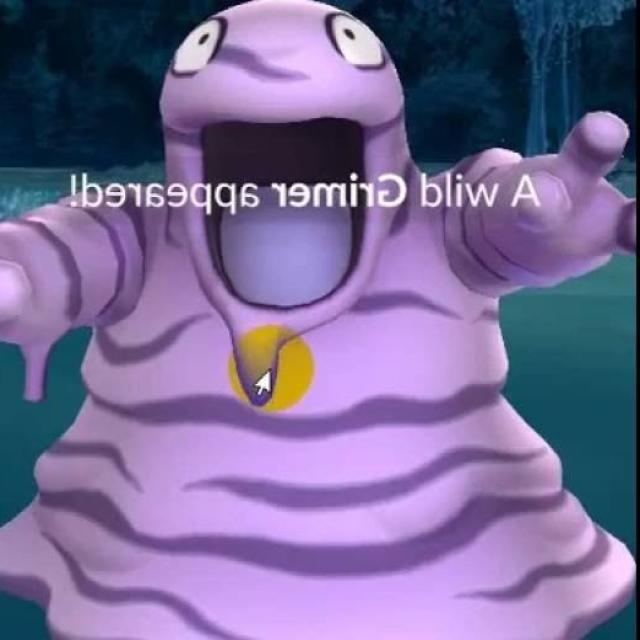Grimer: (61, 7, 502, 619)
